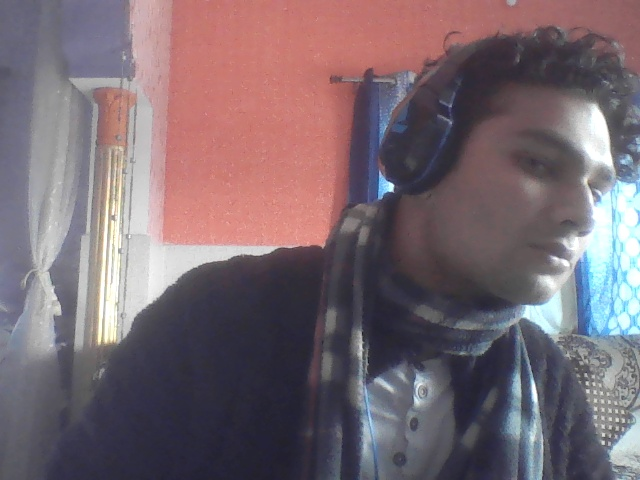real: (393, 0, 627, 331)
